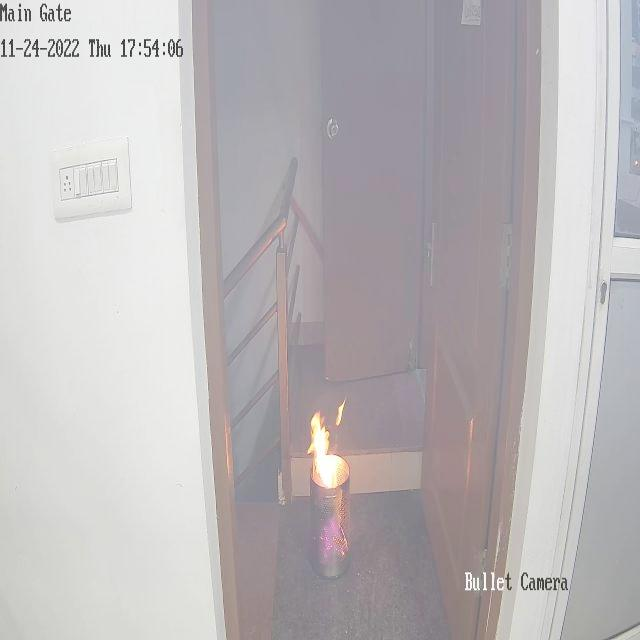fire: (306, 396, 350, 576)
smoke: (214, 8, 314, 132), (332, 13, 410, 114), (346, 133, 414, 232), (334, 225, 404, 320)
